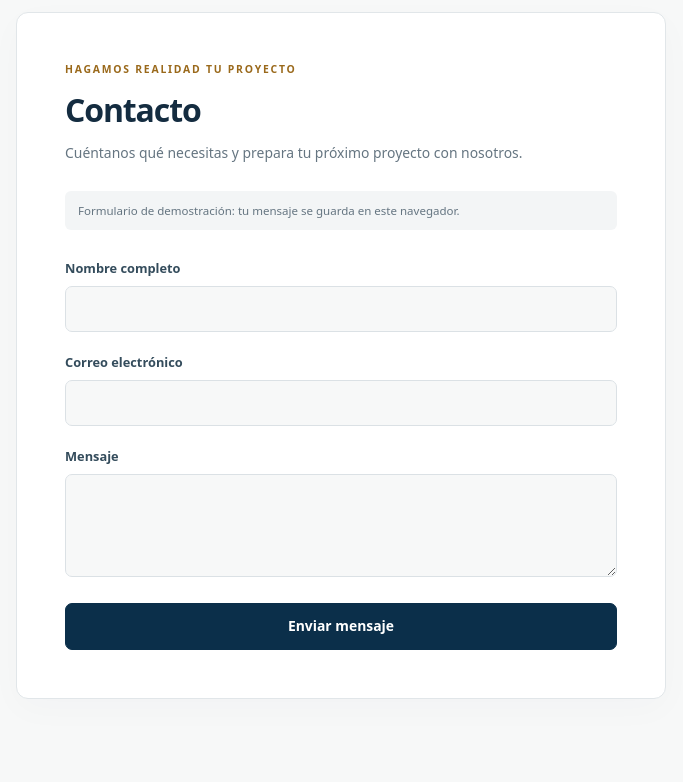
Test: contacto muestra errores específicos y no persiste entradas inválidas
Click the button "Enviar mensaje" at point(341, 627), box x1=65 y1=603 x2=617 y2=650
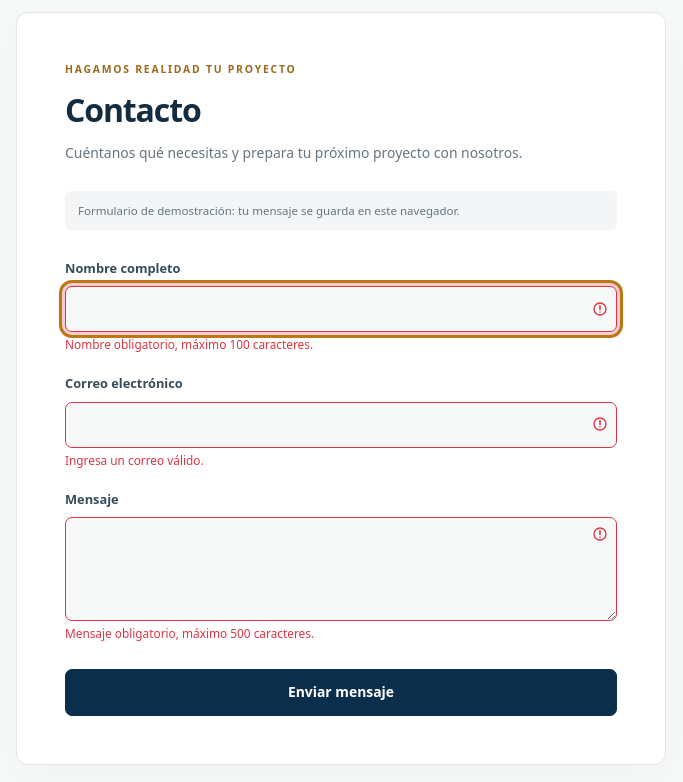
Now the number of messages is 3, box x1=65 y1=336 x2=313 y2=352; x1=65 y1=452 x2=204 y2=468; x1=65 y1=625 x2=314 y2=641
